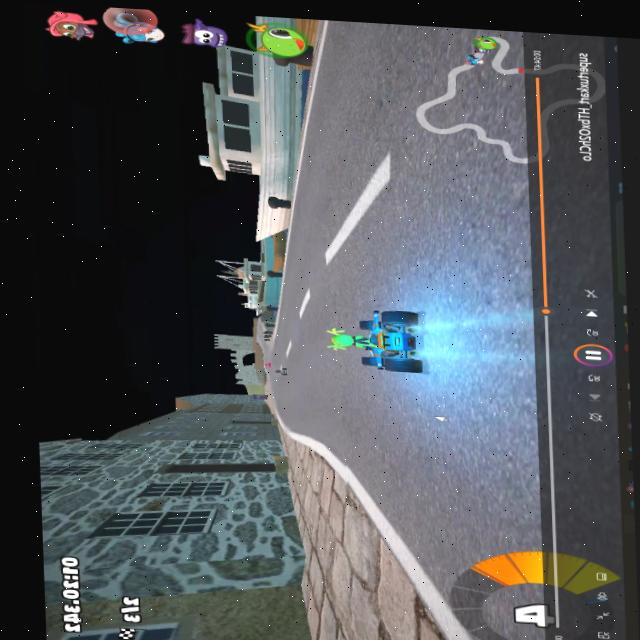enemy_kart: (272, 365, 292, 379)
player_kart: (321, 308, 425, 372)
track: (395, 24, 542, 594), (303, 150, 397, 311), (291, 366, 407, 441), (332, 21, 391, 154), (287, 236, 317, 370), (473, 593, 546, 640), (343, 453, 408, 491), (317, 435, 408, 455), (370, 494, 413, 528), (314, 89, 331, 150), (275, 381, 291, 430), (292, 203, 310, 238), (280, 310, 291, 364), (267, 337, 284, 364), (260, 341, 272, 372), (253, 331, 262, 341), (255, 322, 262, 330), (268, 377, 274, 386)
